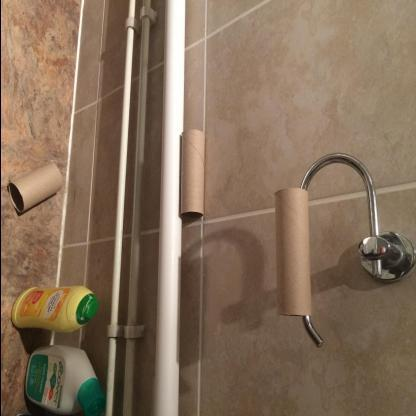karton: (274, 189, 312, 320), (8, 162, 63, 214), (179, 130, 206, 220)
plastik: (24, 345, 106, 416), (10, 286, 99, 335)
